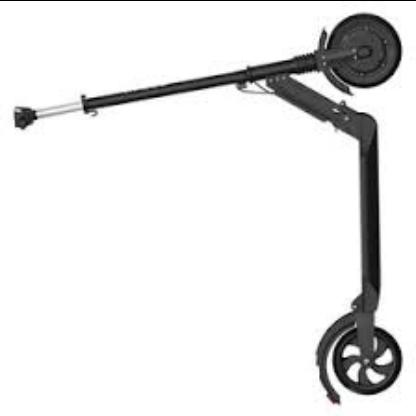bike: (0, 15, 408, 411)
traffic light: (14, 107, 37, 130)
